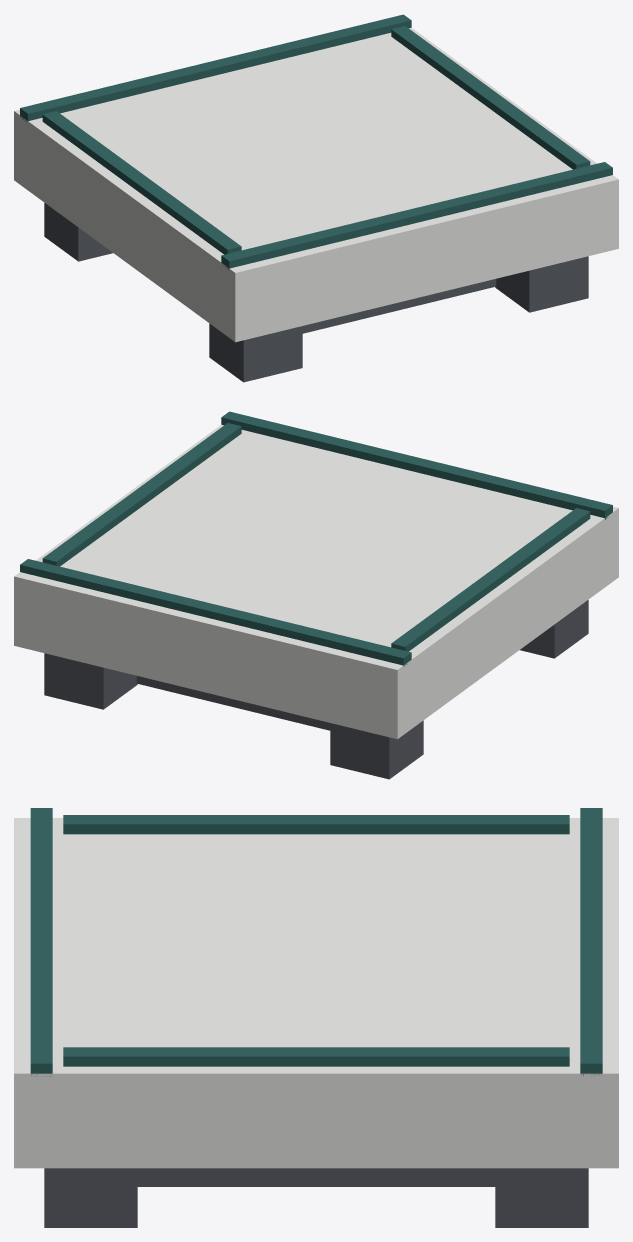
Rendered from Platform_S.fbx.
3 views of the same model, one above another, from view 1: azimuth 30°, elevation 25°; view 2: azimuth 150°, elevation 25°; view 3: azimuth 270°, elevation 25° (orthographic). The views are drawn at different scales.
Visible parts, largest first — view 1: SM_Platform_S; view 2: SM_Platform_S; view 3: SM_Platform_S.
Part boxes in pixels (x1,y1,x2,y2): SM_Platform_S: (14,14,618,382); SM_Platform_S: (14,411,618,779); SM_Platform_S: (14,808,618,1227).
Size of the model in its own units: 2.2 by 0.77 by 2.2.
